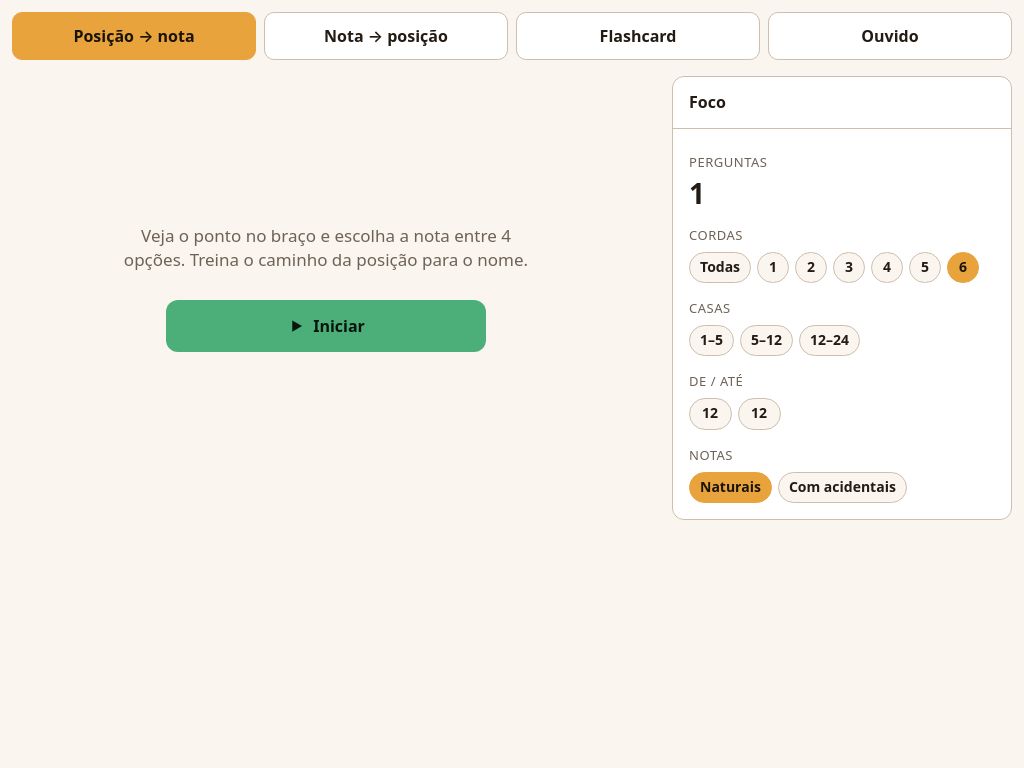
Test: Study: answering › multiple choice: a correct answer gives feedback and saves progress
What coordinates should you click on to do the following:
click the button "Iniciar"
I would click on:
 (326, 326)
Its box is [166, 300, 486, 352].
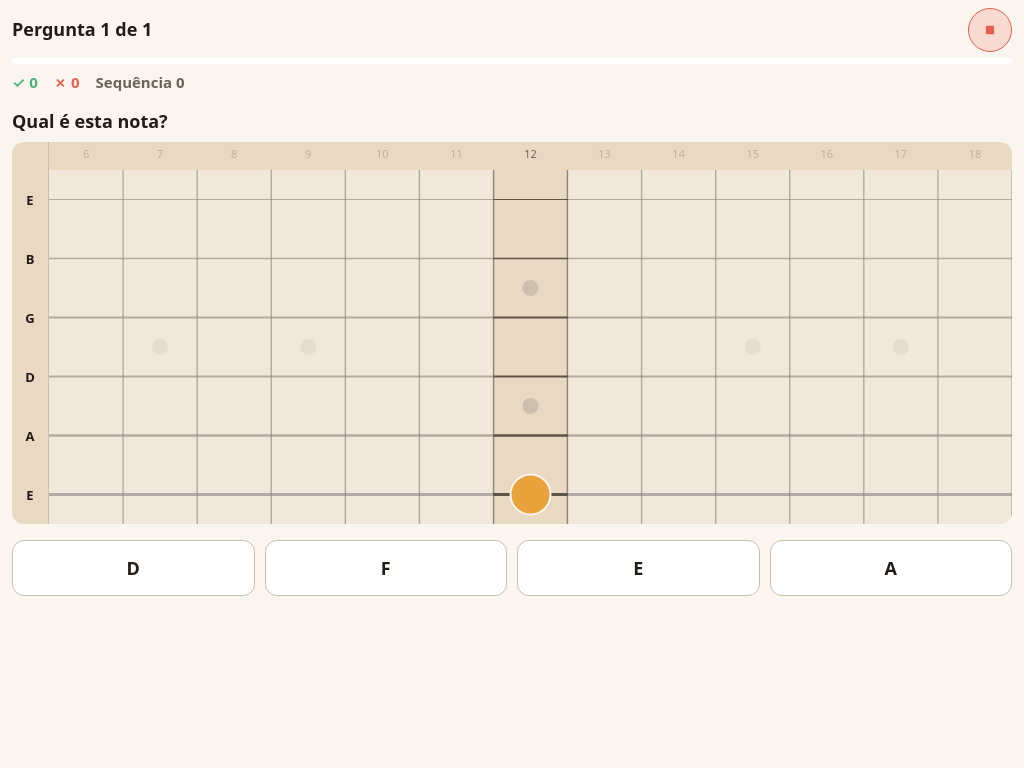
What coordinates should you click on to do the following:
click the button "E"
I would click on:
 (638, 568)
Its box is [517, 540, 760, 596].
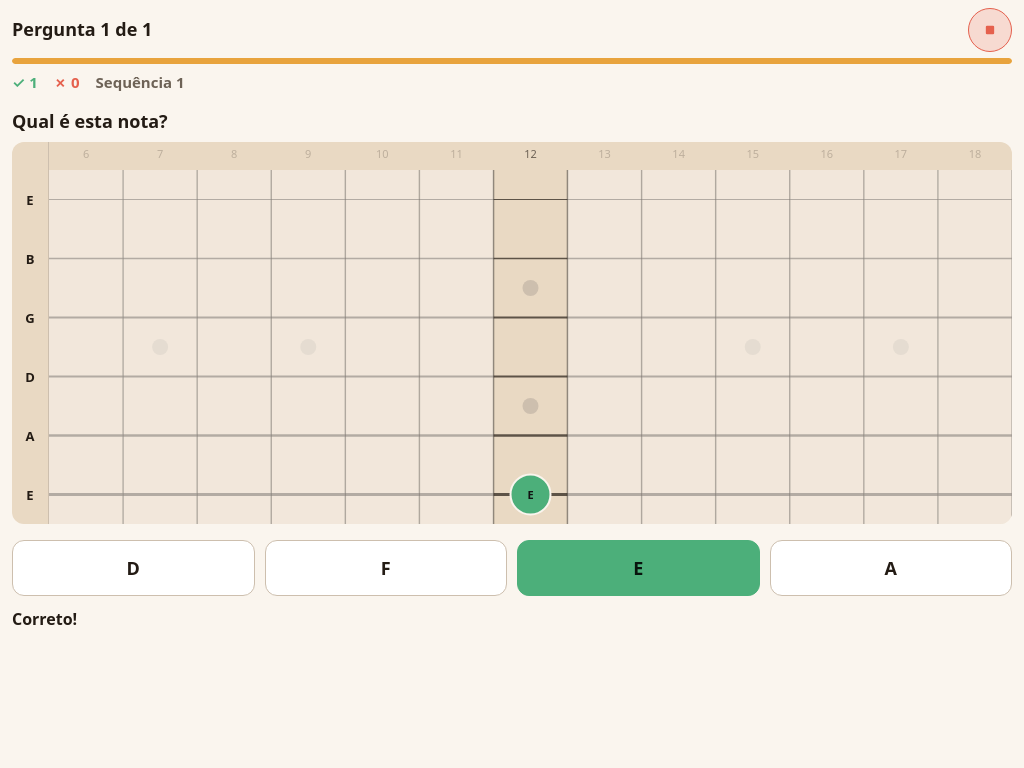
expect the text named "Erros: 0" is shown: met, box [54, 72, 80, 93]
expect the text "Correto!" is shown: met, box [12, 608, 77, 630]
expect the text named "Acertos: 1" shows "1": met, box [29, 72, 38, 92]
